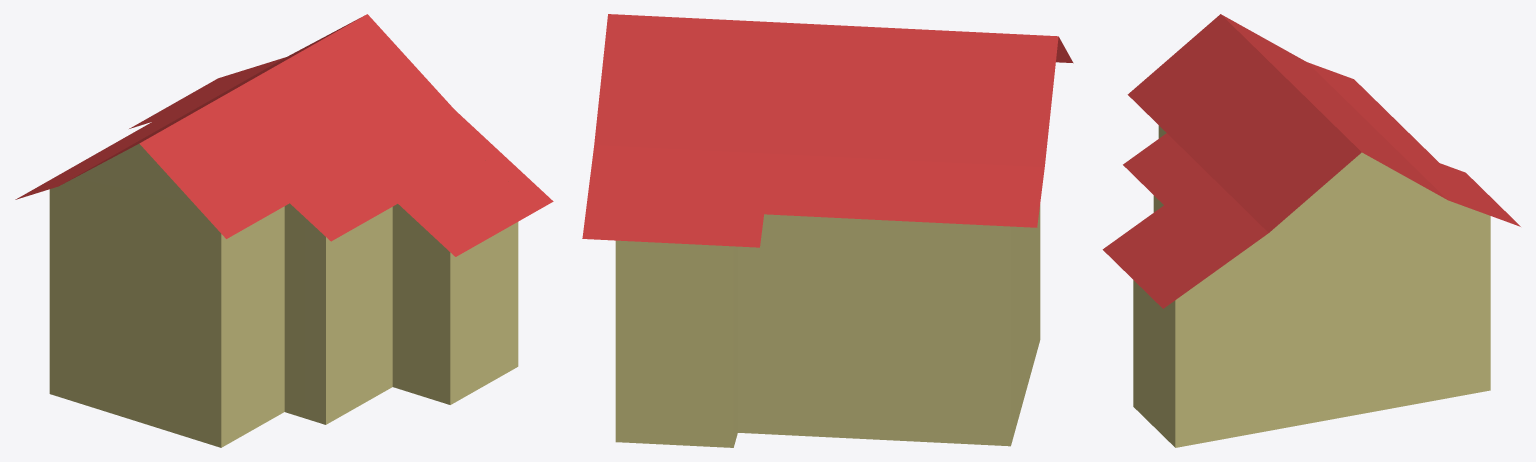
3 views of the same model, side by side, from view 1: azimuth 30°, elevation 25°; view 2: azimuth 150°, elevation 25°; view 3: azimuth 270°, elevation 25° (orthographic). The views are drawn at different scales.
Bounding box in the file's own units: 20 × 17.8 × 12.77.
